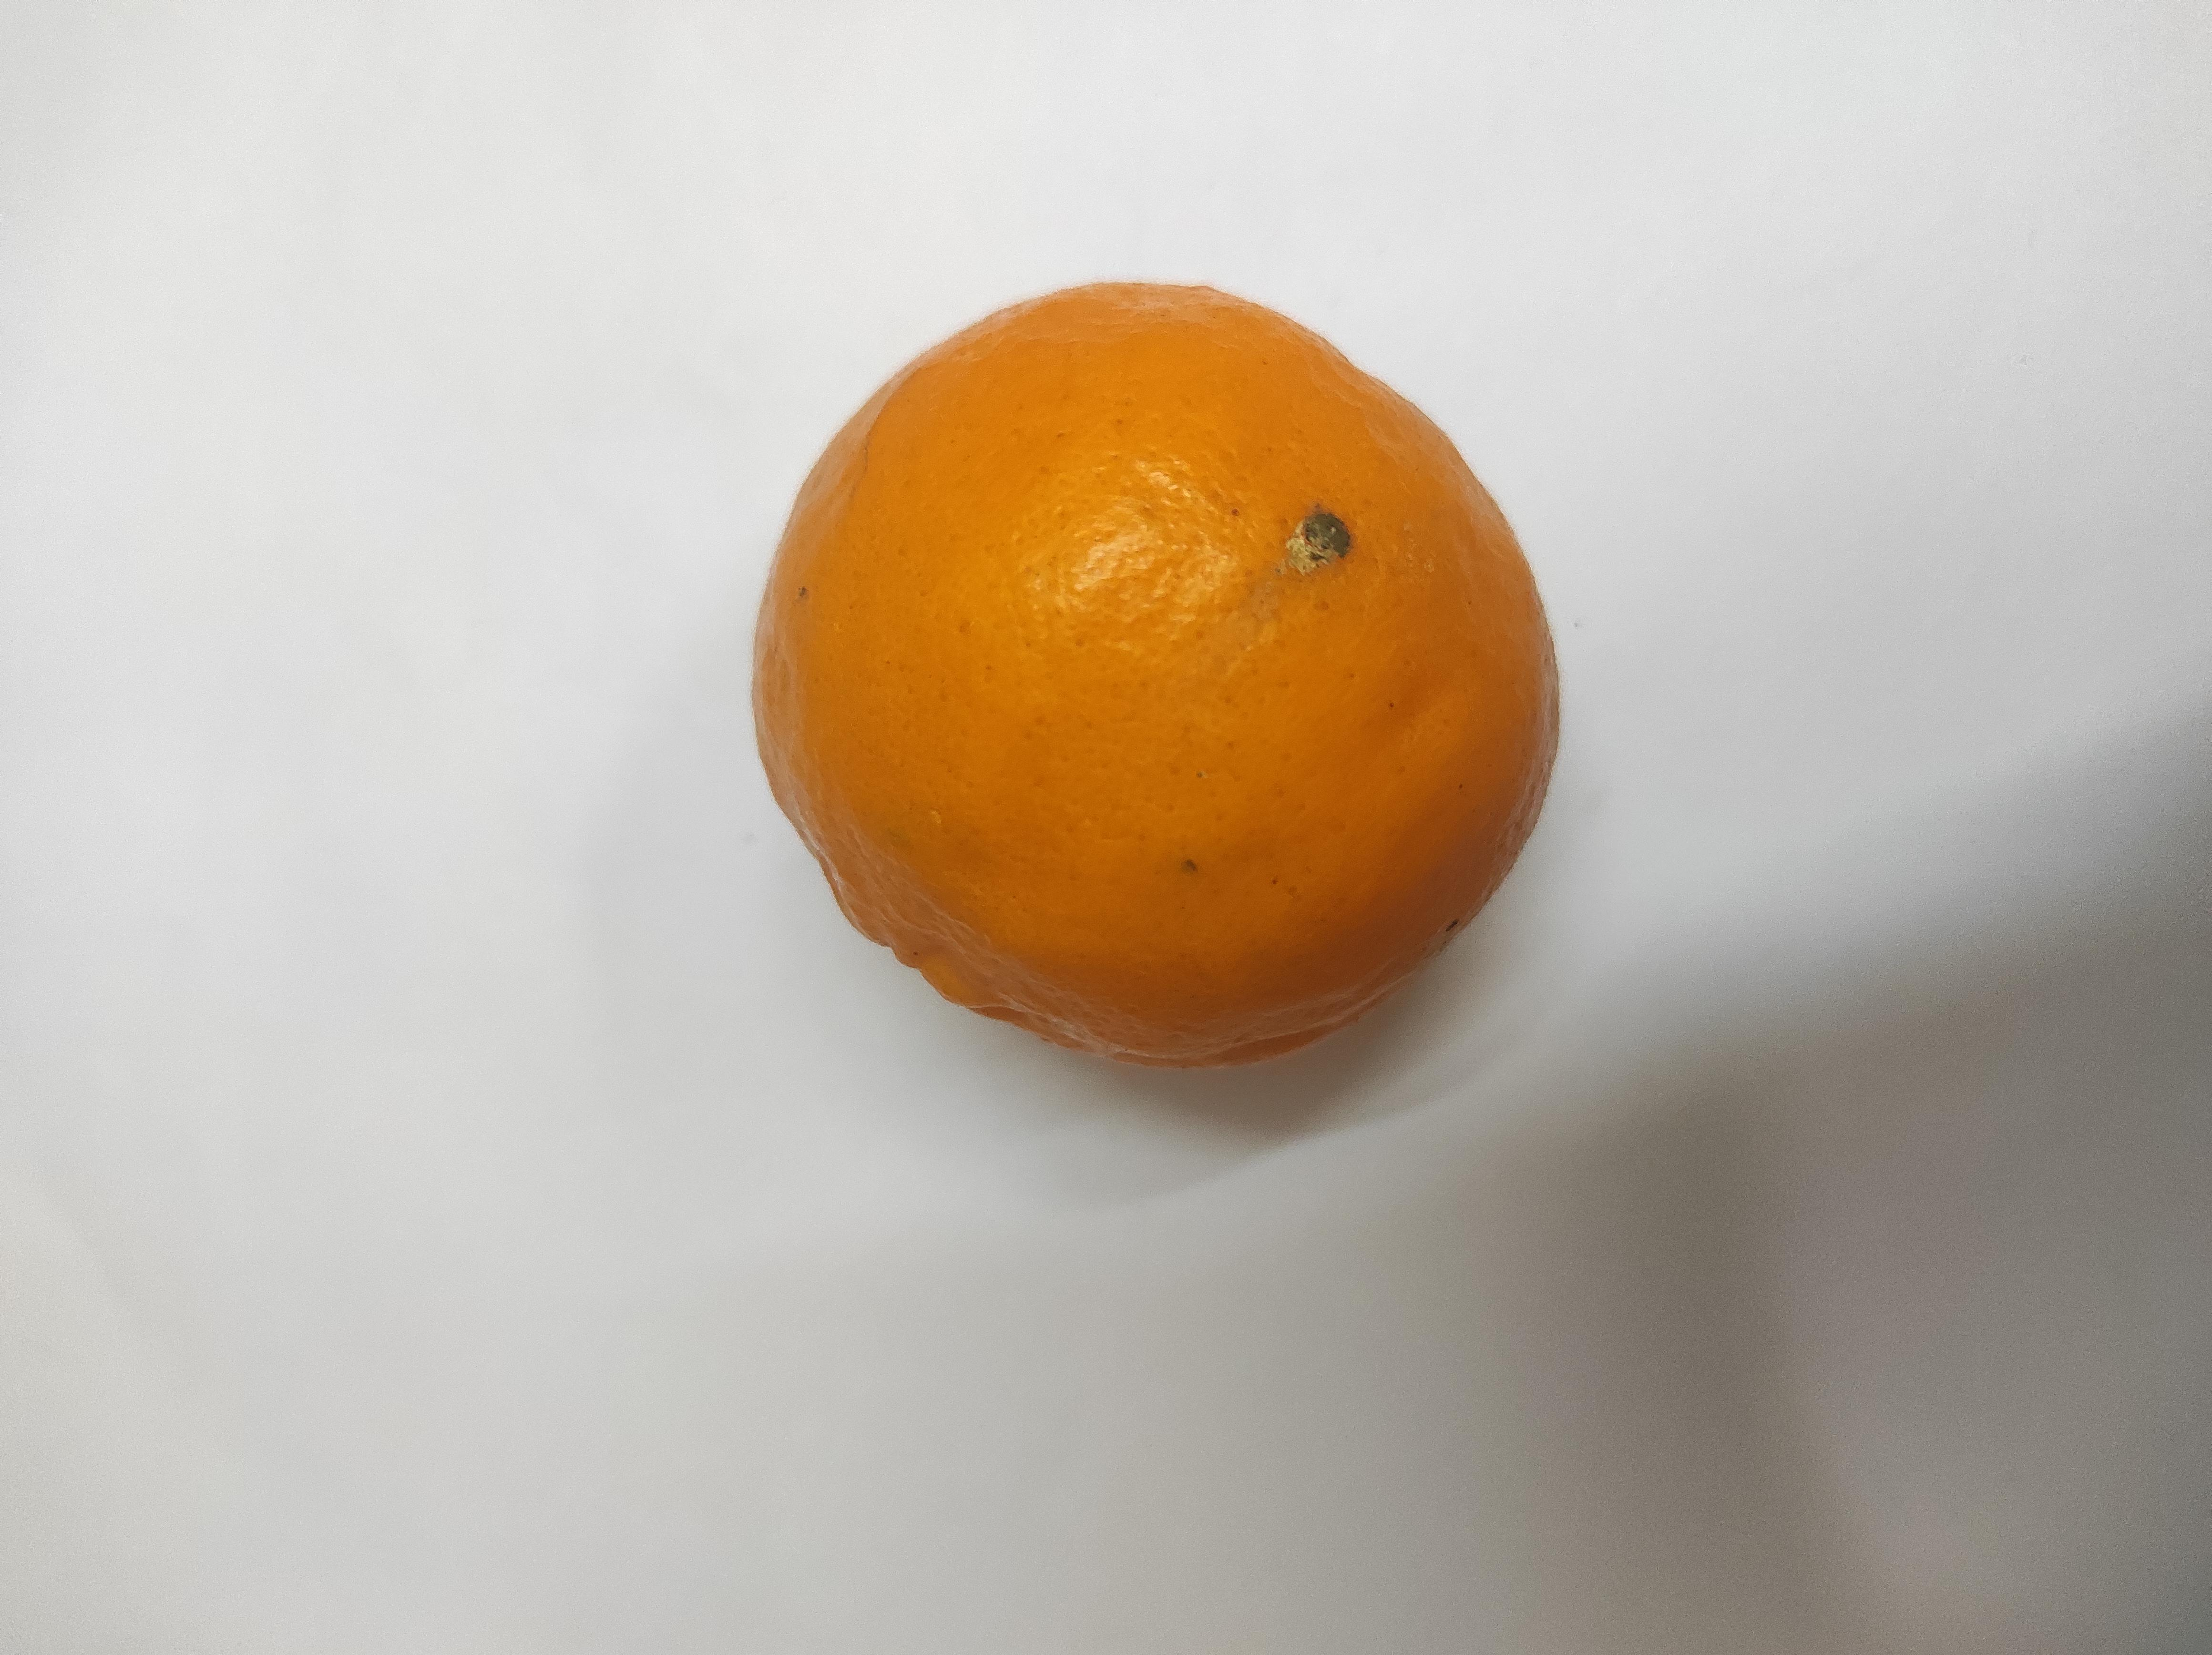Ripe: (744, 271, 1574, 1078)
